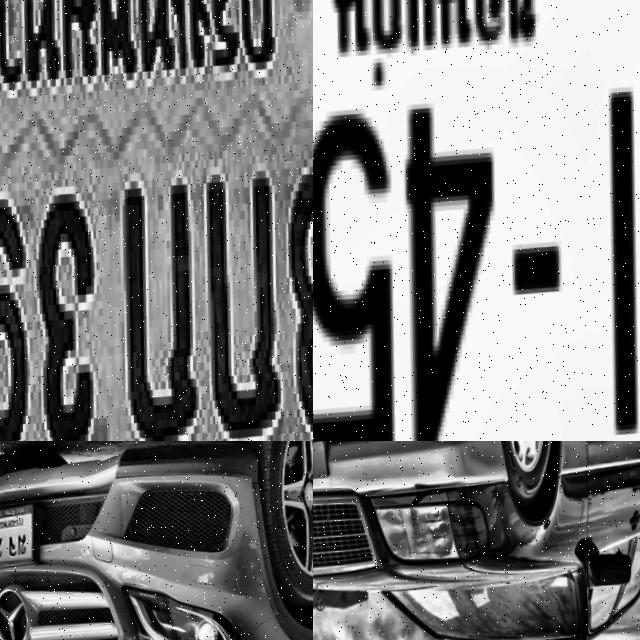license-plate: (313, 0, 640, 441), (0, 0, 313, 441), (0, 501, 43, 573)
